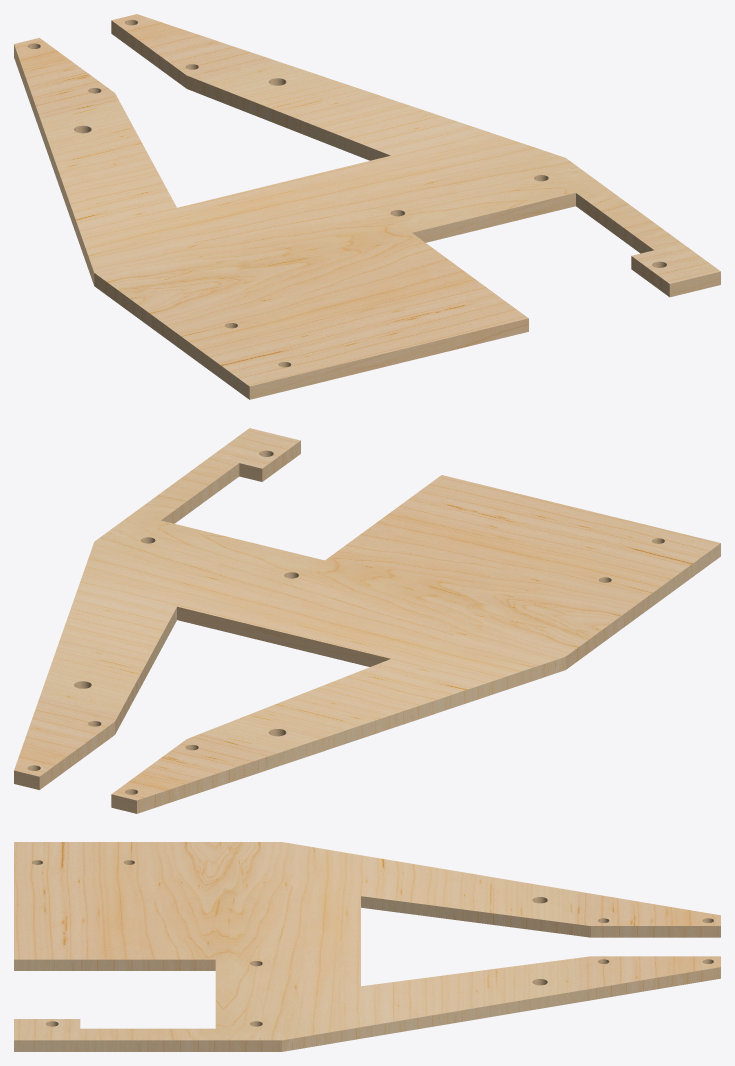
The model's file is chassis.gltf.
The picture shows the model from 3 angles, top to bottom: view 1: azimuth 30°, elevation 25°; view 2: azimuth 150°, elevation 25°; view 3: azimuth 270°, elevation 25°; orthographic projection. The views are drawn at different scales.
Visible parts, largest first — view 1: Chassis; view 2: Chassis; view 3: Chassis.
Part boxes in pixels (<box>): Chassis: <box>14,14,720,399</box>; Chassis: <box>14,428,720,813</box>; Chassis: <box>14,842,720,1051</box>.
Bounding box in the file's own units: 0.184 × 0.005 × 0.2771.
1 material, 1 textured.
